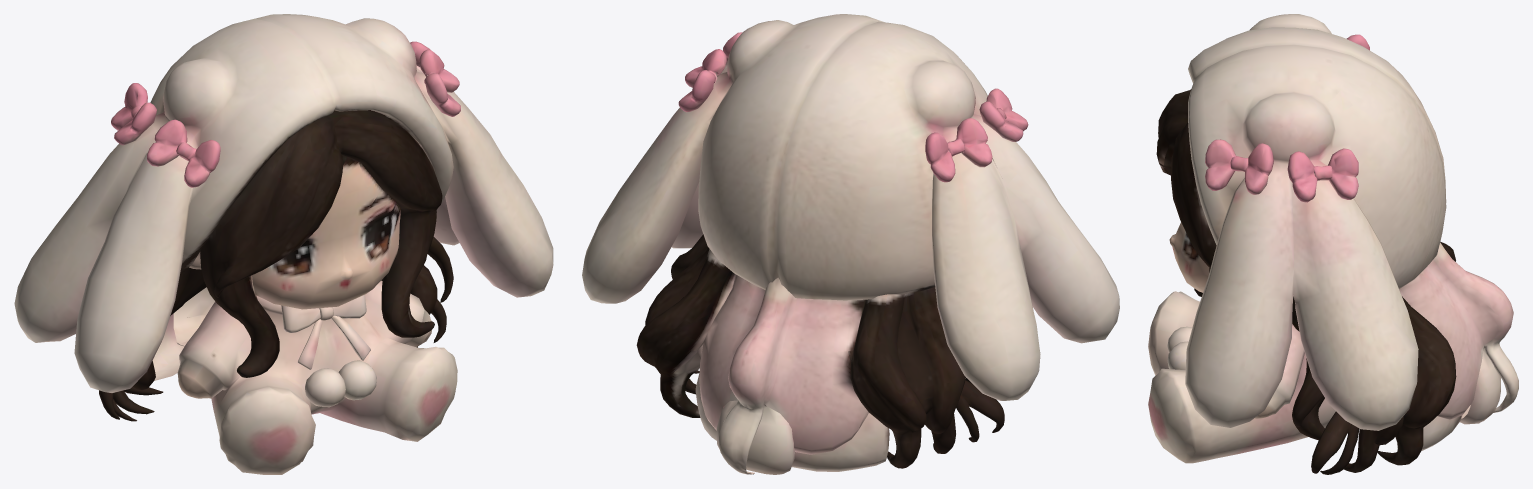
The model's file is plush-doll-bunny.glb.
3 views of the same model, side by side, from view 1: azimuth 30°, elevation 25°; view 2: azimuth 150°, elevation 25°; view 3: azimuth 270°, elevation 25° (orthographic).
Parts seen in each view (by area): view 1: Plush_bunny; view 2: Plush_bunny; view 3: Plush_bunny.
Part boxes in pixels (bbox=[...]): Plush_bunny: bbox=[14, 14, 553, 474]; Plush_bunny: bbox=[582, 14, 1119, 474]; Plush_bunny: bbox=[1148, 14, 1518, 474].
Size of the model in its own units: 1.27 by 1 by 0.8891.
1 material, 1 textured.
